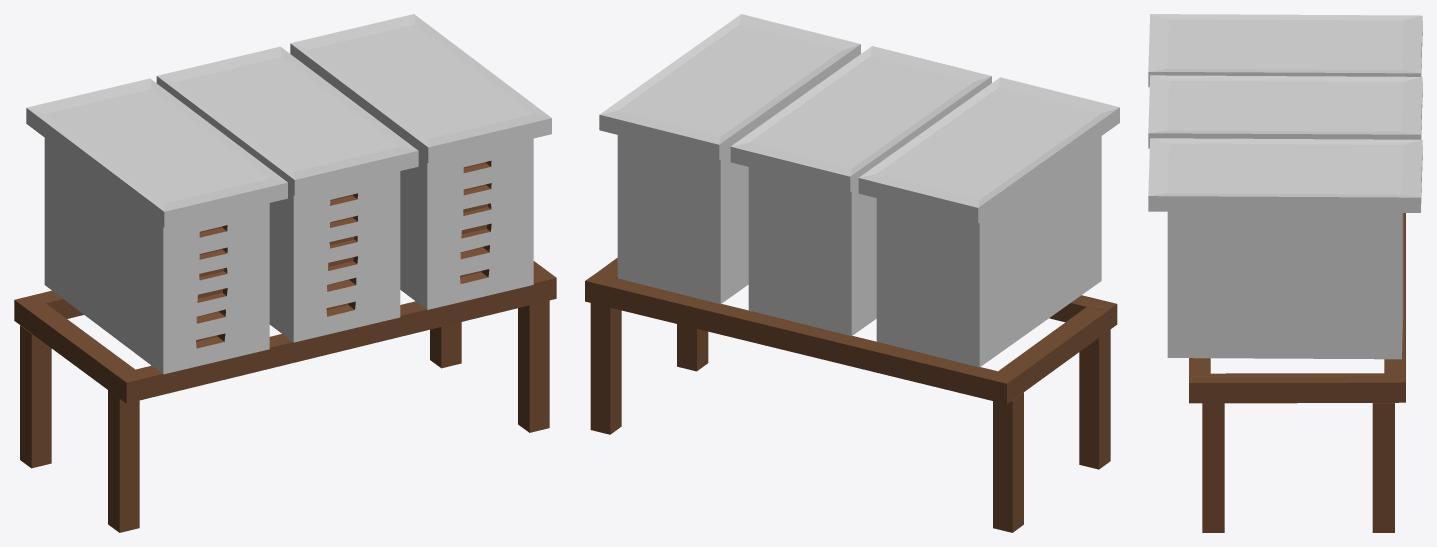
File: PASAR A WOFRA .fbx
3 views of the same model, side by side, from view 1: azimuth 30°, elevation 25°; view 2: azimuth 150°, elevation 25°; view 3: azimuth 270°, elevation 25° (orthographic). The views are drawn at different scales.
Parts seen in each view (by area): view 1: Cube.002, Cube.004, Cube.001, Cube.006; view 2: Cube.002, Cube.004, Cube.001, Cube.006; view 3: Cube.004, Cube.001, Cube.002, Cube.006.
Boxes of the visible parts, bbox=[...] form: Cube.002: bbox=[26, 78, 287, 374]; Cube.004: bbox=[290, 14, 551, 309]; Cube.001: bbox=[156, 46, 418, 342]; Cube.006: bbox=[14, 261, 556, 532]; Cube.002: bbox=[858, 77, 1119, 367]; Cube.004: bbox=[599, 14, 860, 304]; Cube.001: bbox=[730, 46, 991, 336]; Cube.006: bbox=[585, 258, 1117, 532]; Cube.004: bbox=[1148, 138, 1422, 359]; Cube.001: bbox=[1148, 75, 1422, 148]; Cube.002: bbox=[1148, 14, 1422, 87]; Cube.006: bbox=[1189, 213, 1405, 532].
Size of the model in its own units: 527 by 394 by 302.
